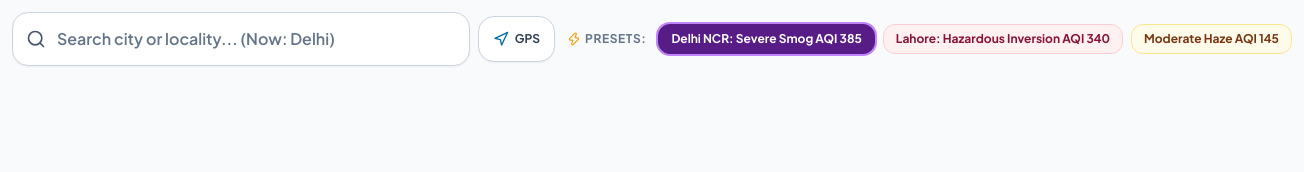
Test: components/CitySelector detailed branches › searches for cities with debounce and selects result on click
Later steps or results of the test are not shown.
Type "Beng" into the dropdown.
click(241, 39); type("Beng")  # box 12,12 -> 470,66
Wait 400 ms
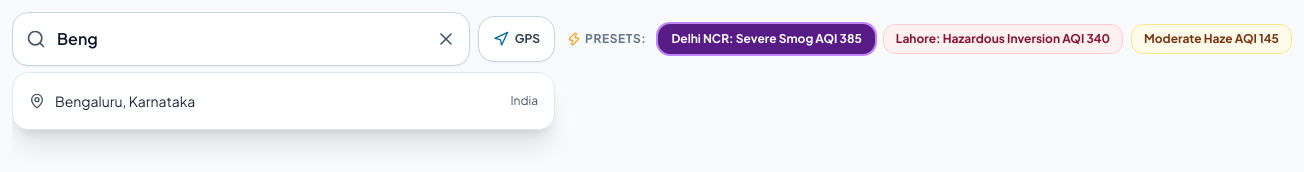
Check: the text "Bengaluru, Karnataka" is shown, box 55,91 -> 195,111
